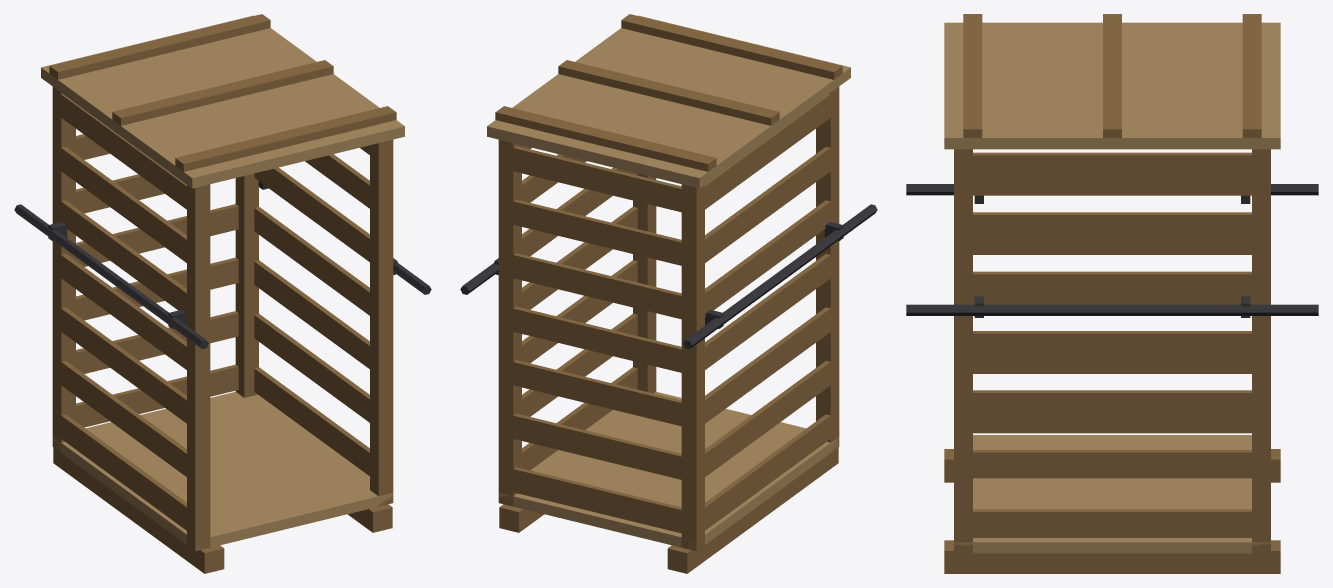
File: Prop_Release_Crate.glb
3 renders of one model, left to right at view 1: azimuth 30°, elevation 25°; view 2: azimuth 150°, elevation 25°; view 3: azimuth 270°, elevation 25°, orthographic. The views are drawn at different scales.
Visible parts, largest first — view 1: Prop_Release_Crate; view 2: Prop_Release_Crate; view 3: Prop_Release_Crate.
Part boxes in pixels (left/top/right/bottom): Prop_Release_Crate: left=14, top=14, right=431, bottom=573; Prop_Release_Crate: left=460, top=14, right=877, bottom=573; Prop_Release_Crate: left=906, top=14, right=1318, bottom=573.
Size of what is drawn, in the model's own units: 0.936 by 1.57 by 1.3.
